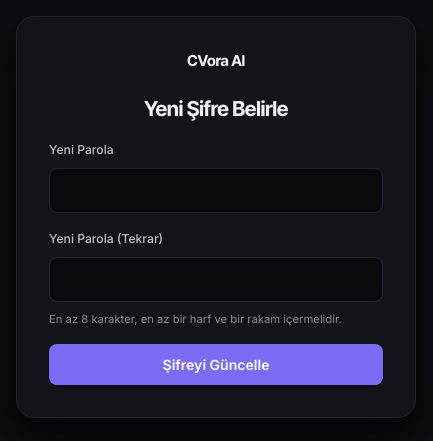
Scenario: ResetPasswordPage › submits the token and new password, then shows success
The image size is (433, 441).
Type "NewPassword2" into the password field labelled "Yeni Parola" at (216,191), box [49,168,383,213]
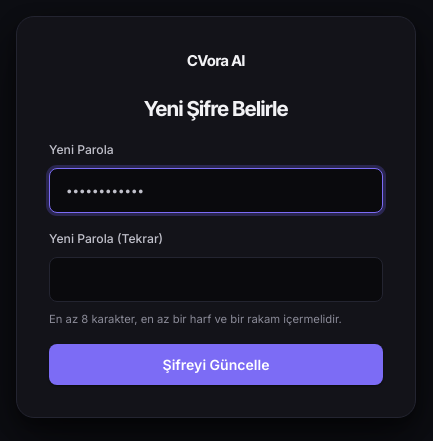
Type "NewPassword2" into the password field labelled "Yeni Parola (Tekrar)" at (216,280), box [49,257,383,302]
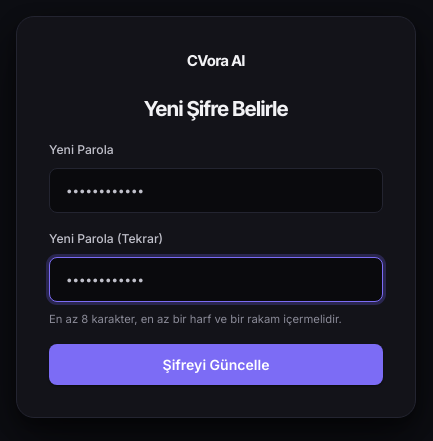
Click the button "Şifreyi Güncelle" at (216,365), box [49,344,383,385]
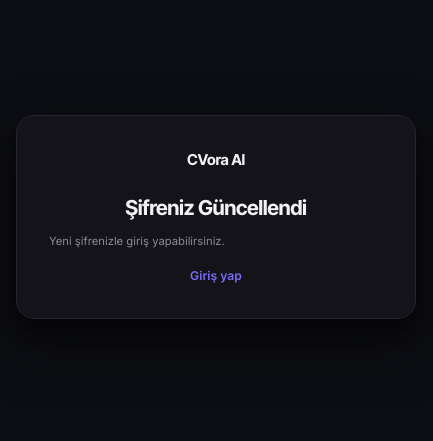
Expected: the heading "Şifreniz Güncellendi" is shown, [125,195,307,220]
